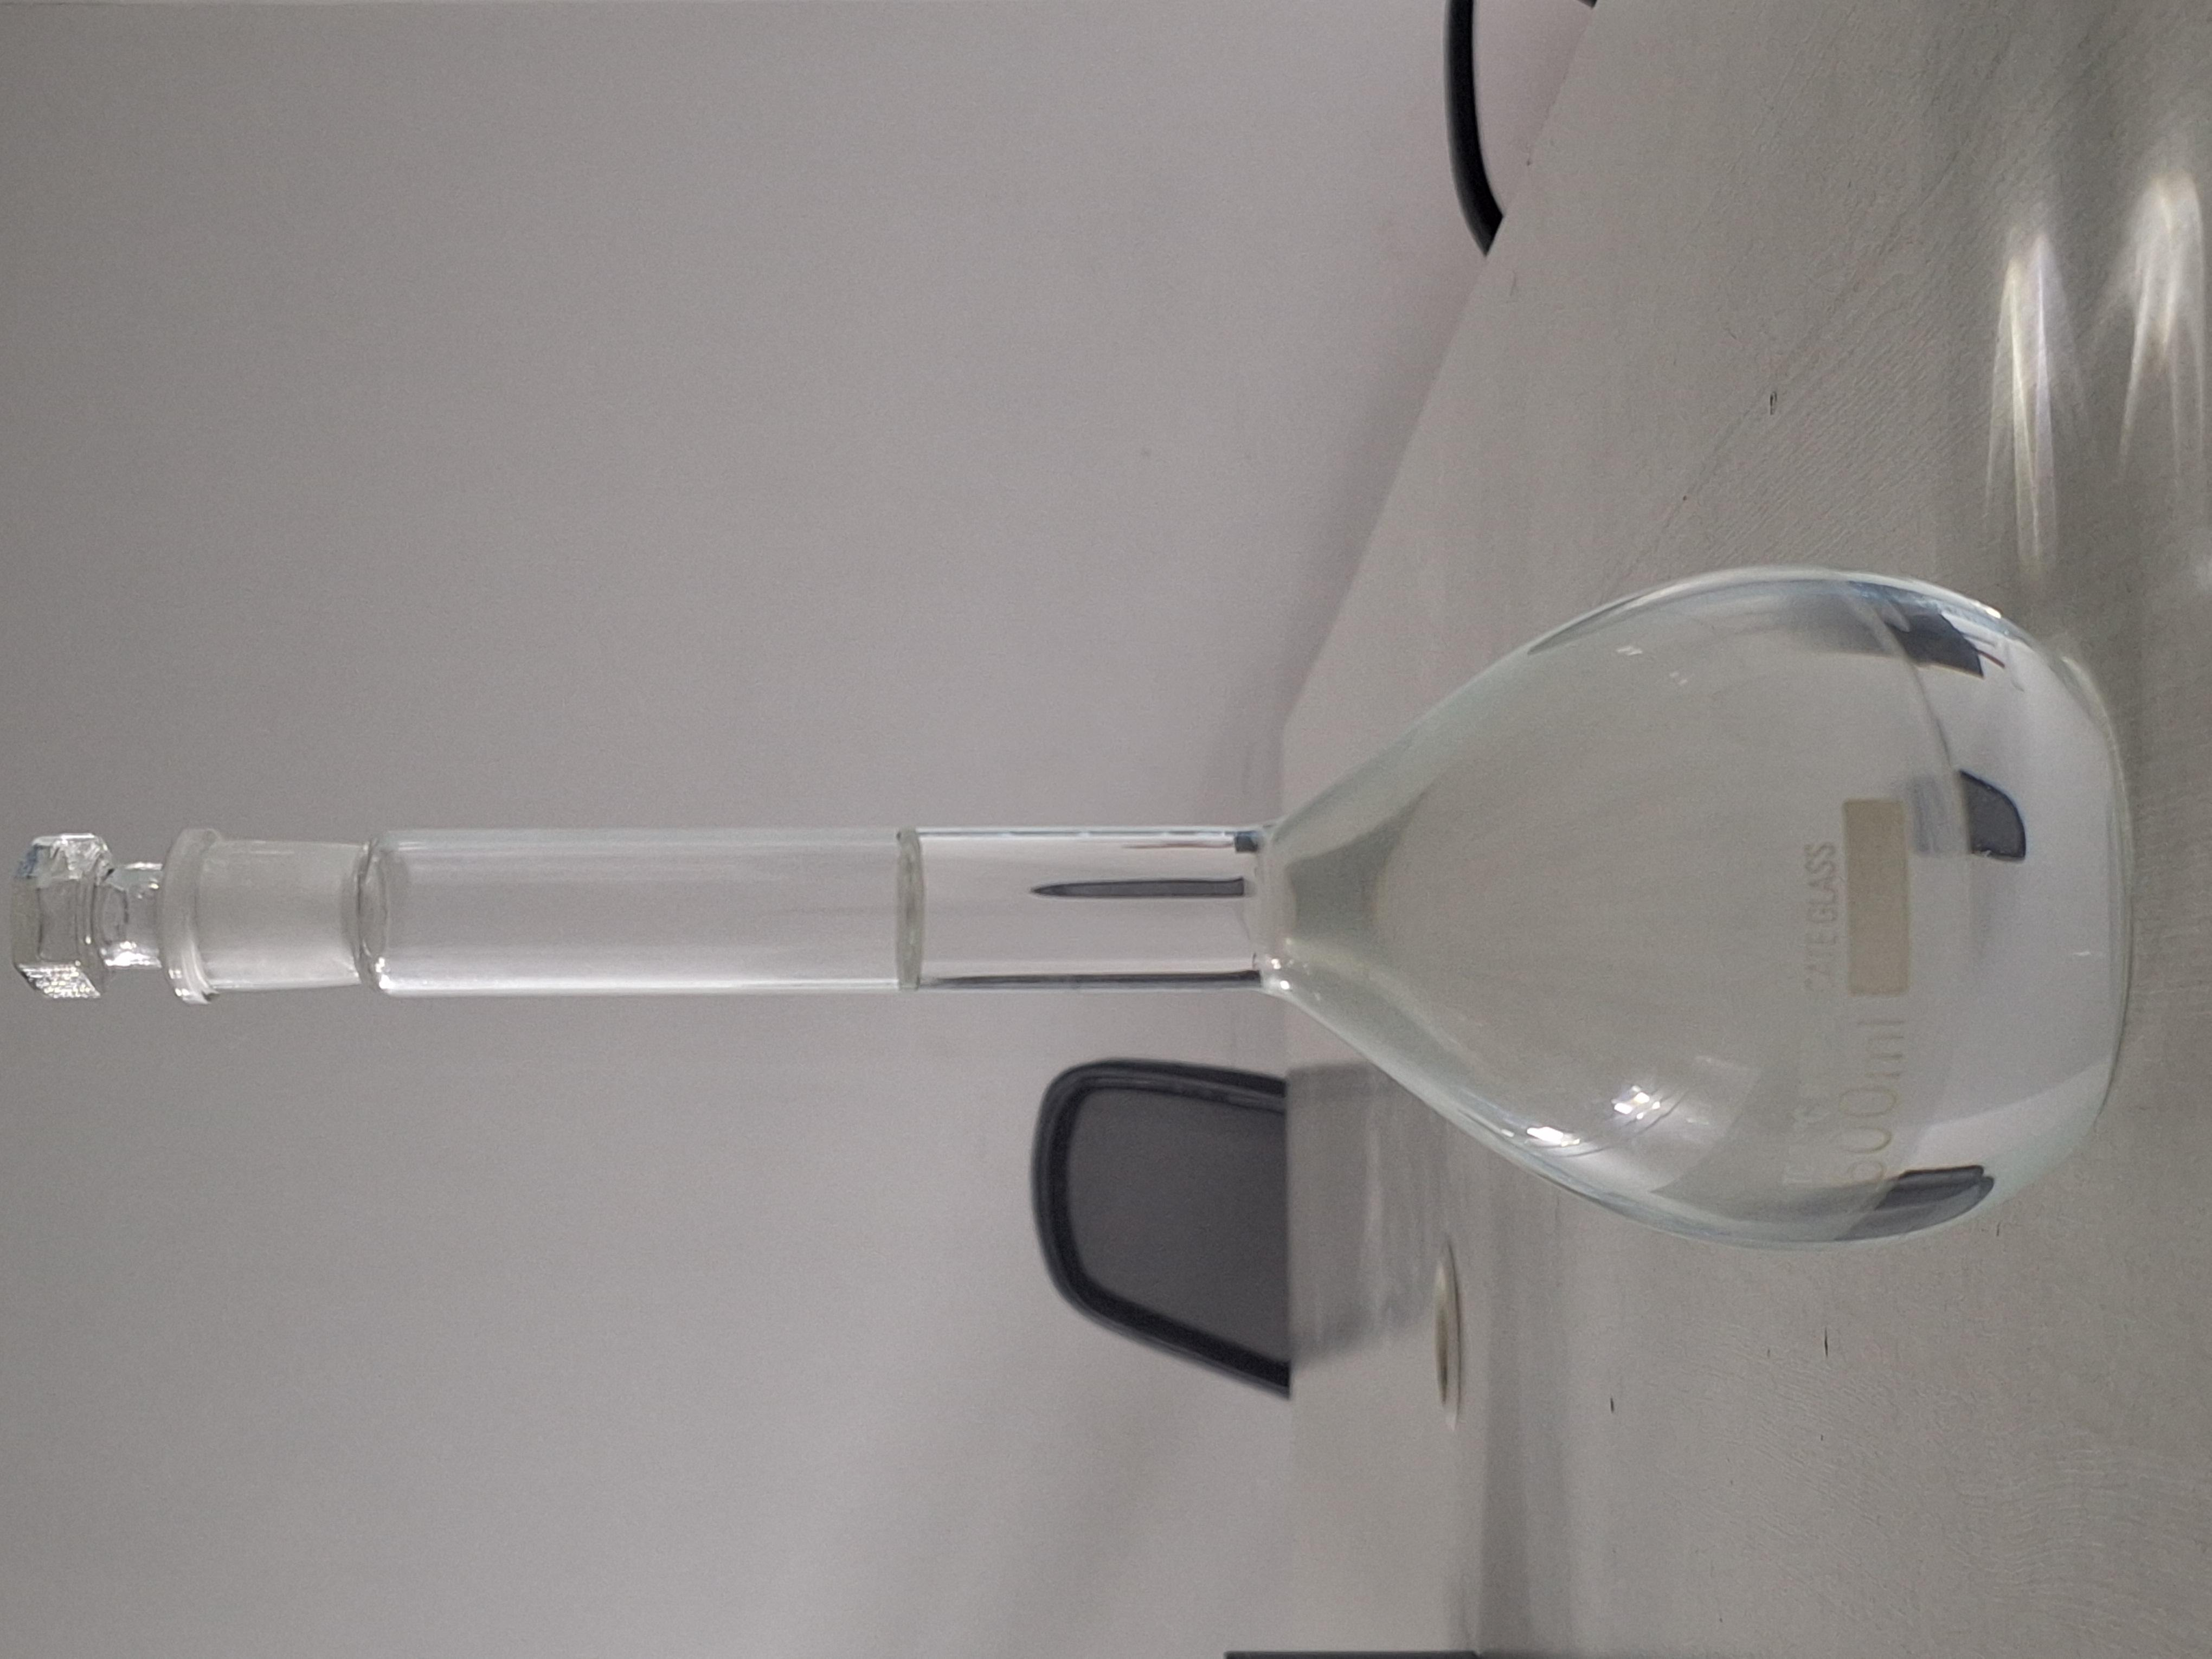Volumetric flask: (538, 31, 1472, 1600)
